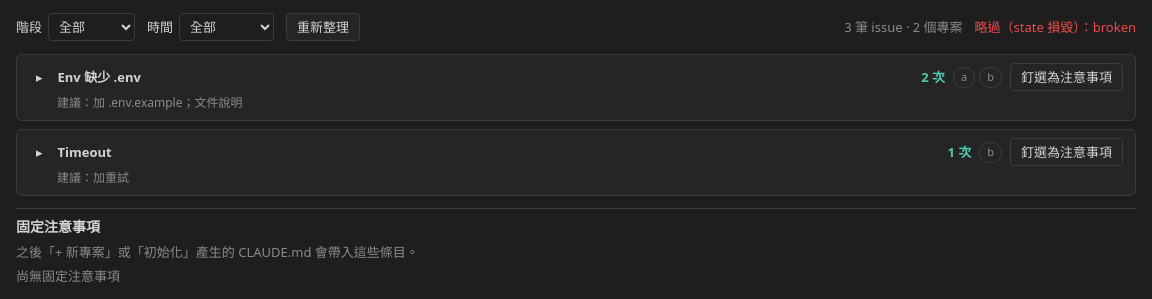
Test: InsightsView › filters by stage and time
The width and height of the screenshot is (1152, 299).
Expected: the text "Env 缺少 .env" is shown, [58,68,141,86]
Expected: the text "2 次" is shown, [921,68,945,86]
Select "人工驗證" in the dropdown labelled "階段" at {"x": 92, "y": 27}, box [48,13,135,41]
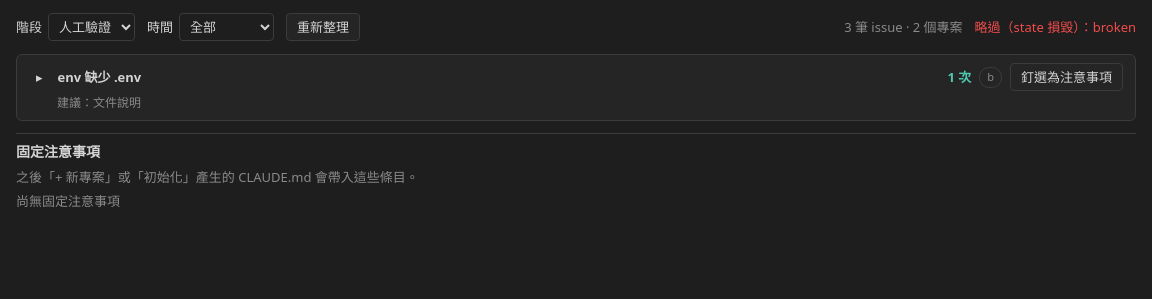
Now the text "1 次" is shown, box [947,68,971,86]
Now the text "Timeout" is gone
Select "全部" in the dropdown labelled "階段" at {"x": 92, "y": 27}, box [48,13,135,41]
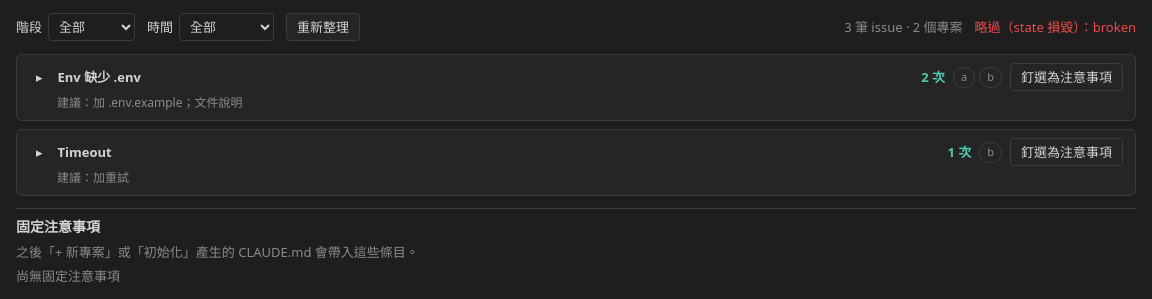
2026-06-01 的 verify issue 落在 30 天與 7 天窗外，另外兩筆（09-01、09-02）都在窗內
Select "最近 30 天" in the dropdown labelled "時間" at {"x": 226, "y": 27}, box [179,13,274,41]
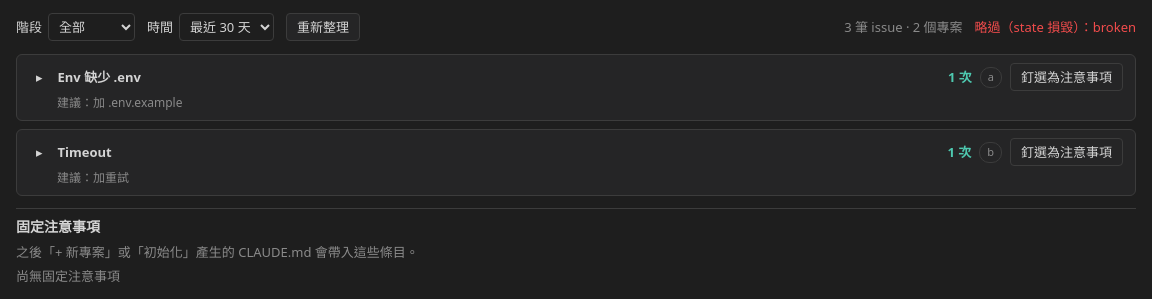
Now the text "Timeout" is shown, box [58,143,112,161]
Now the text "1 次" in the row of "Env 缺少 .env" is shown, box [948,68,972,86]
Select "最近 7 天" in the dropdown labelled "時間" at {"x": 226, "y": 27}, box [179,13,274,41]
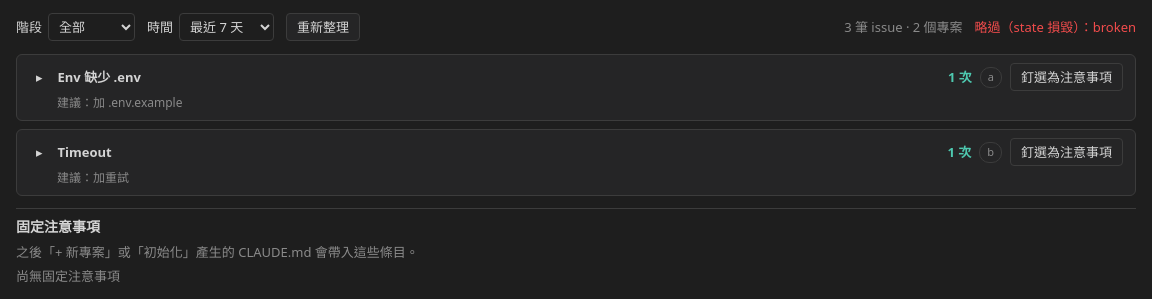
Now the text "1 次" in the row of "Env 缺少 .env" is shown, box [948,68,972,86]
Now the text "Timeout" is shown, box [58,143,112,161]
Select "全部" in the dropdown labelled "時間" at {"x": 226, "y": 27}, box [179,13,274,41]
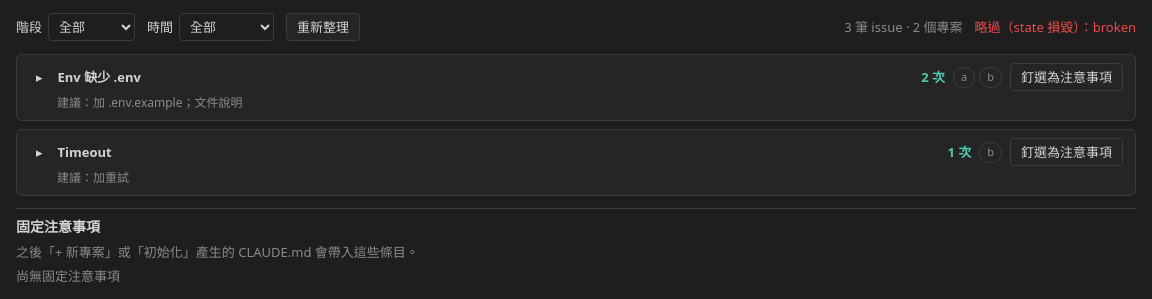
Now the text "2 次" is shown, box [921,68,945,86]
